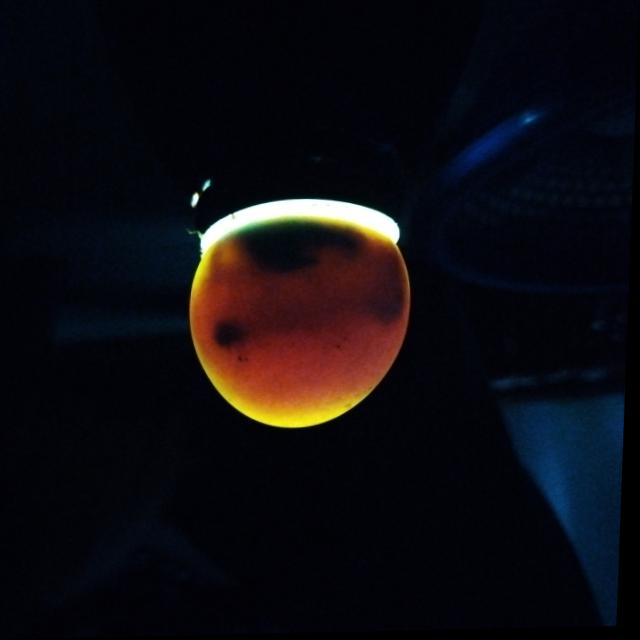Area Infectada: (212, 221, 407, 364)
